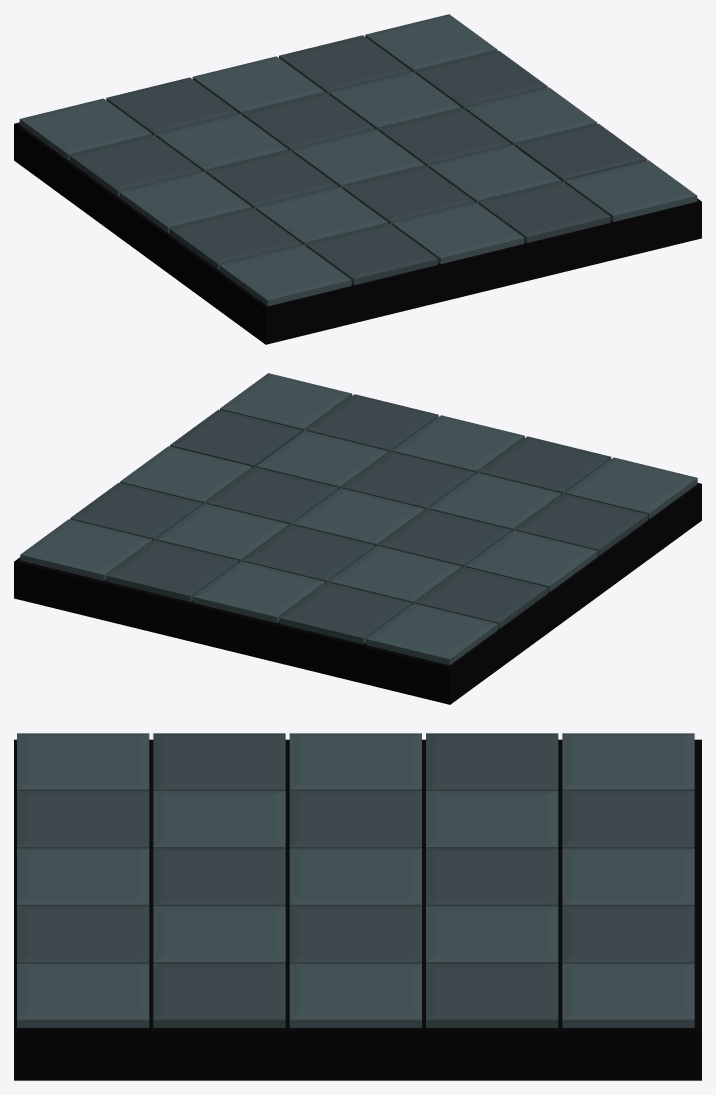
Rendered from broken_FlaskSquare.fbx_floor3.fbx_floor3.fbx.
3 views of the same model, one above another, from view 1: azimuth 30°, elevation 25°; view 2: azimuth 150°, elevation 25°; view 3: azimuth 270°, elevation 25° (orthographic). The views are drawn at different scales.
Visible parts, largest first — view 1: Cube.019; view 2: Cube.019; view 3: Cube.019.
Part boxes in pixels (x1,y1,x2,y2): Cube.019: [14, 14, 701, 344]; Cube.019: [14, 373, 701, 704]; Cube.019: [14, 733, 701, 1080].
Bounding box in the file's own units: 214 × 20.44 × 214.
